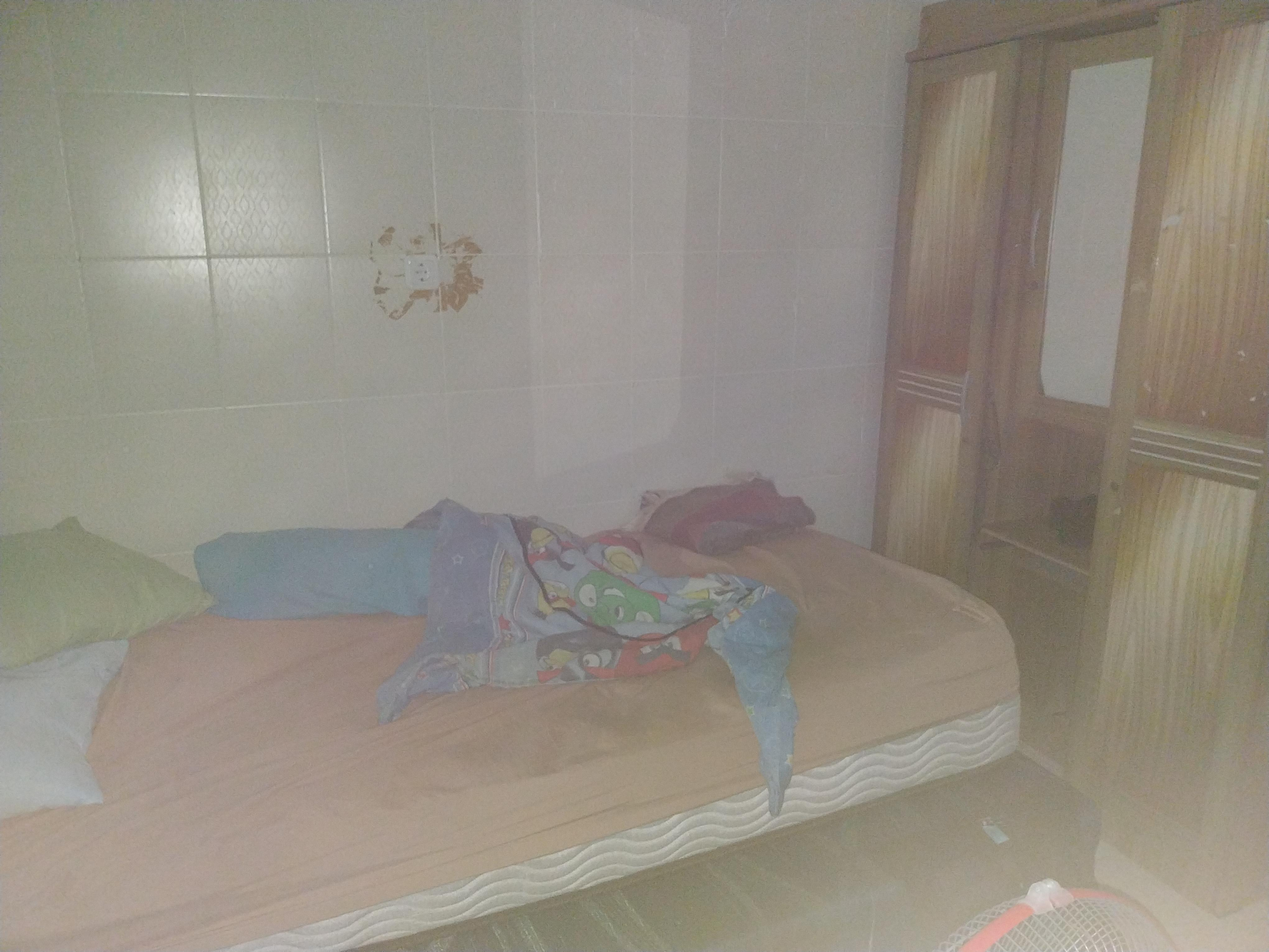bed: (0, 477, 1043, 952)
blanket: (365, 486, 836, 817)
cabinet-merged: (874, 0, 1269, 912)
pillow: (0, 488, 215, 671), (0, 640, 128, 818), (194, 527, 435, 620)
